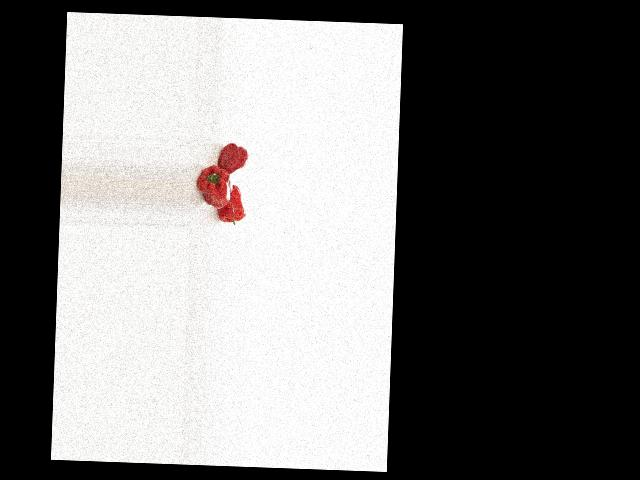bell_pepper: (216, 140, 249, 172)
